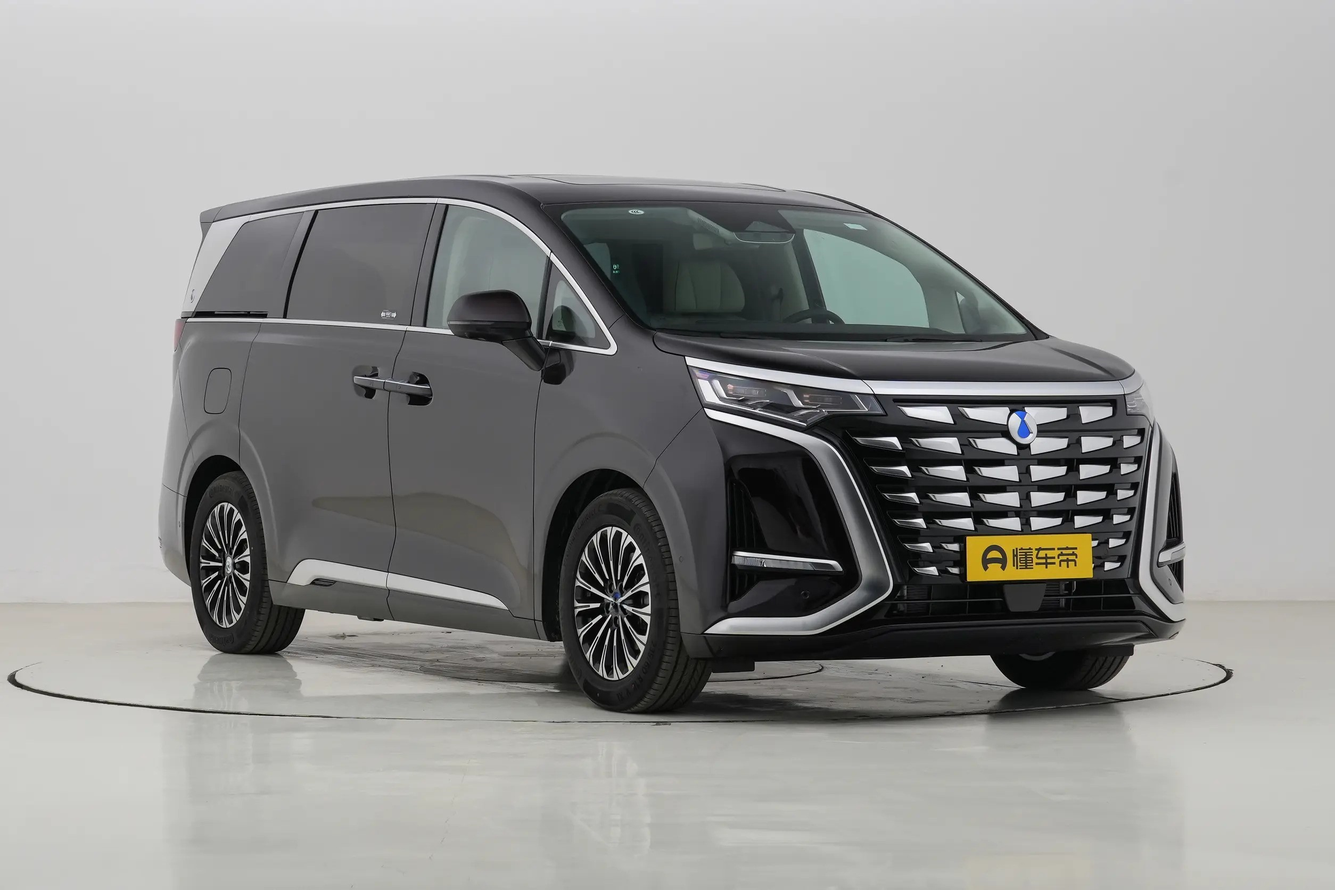DENZA: (1009, 411, 1037, 443)
